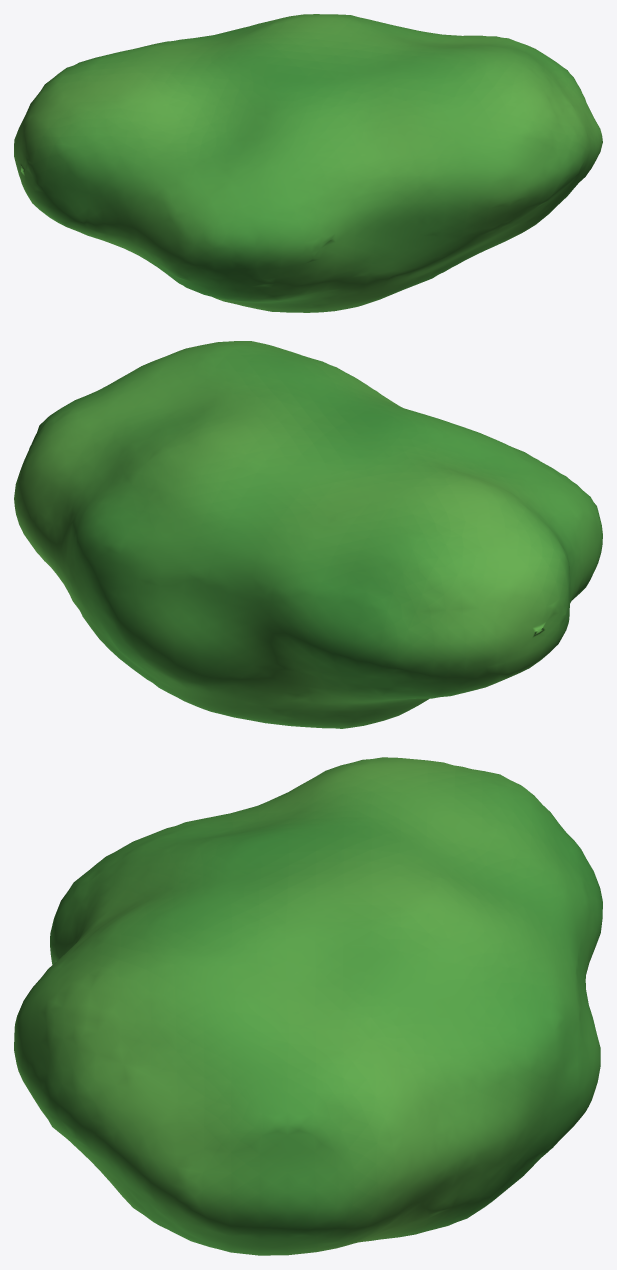
File: bush.glb
3 views of the same model, one above another, from view 1: azimuth 30°, elevation 25°; view 2: azimuth 150°, elevation 25°; view 3: azimuth 270°, elevation 25° (orthographic). The views are drawn at different scales.
Visible parts, largest first — view 1: bush; view 2: bush; view 3: bush.
Boxes of the visible parts, box(x1,y1,x2,y2) form: bush: box(14, 14, 602, 312); bush: box(14, 341, 602, 728); bush: box(14, 757, 602, 1255).
Size of the model in its own units: 2.08 by 0.9416 by 1.5.
